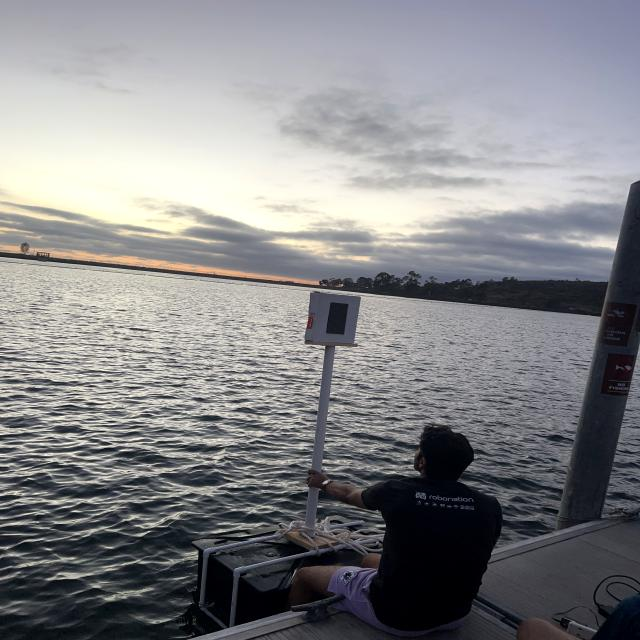led: (316, 290, 354, 342)
